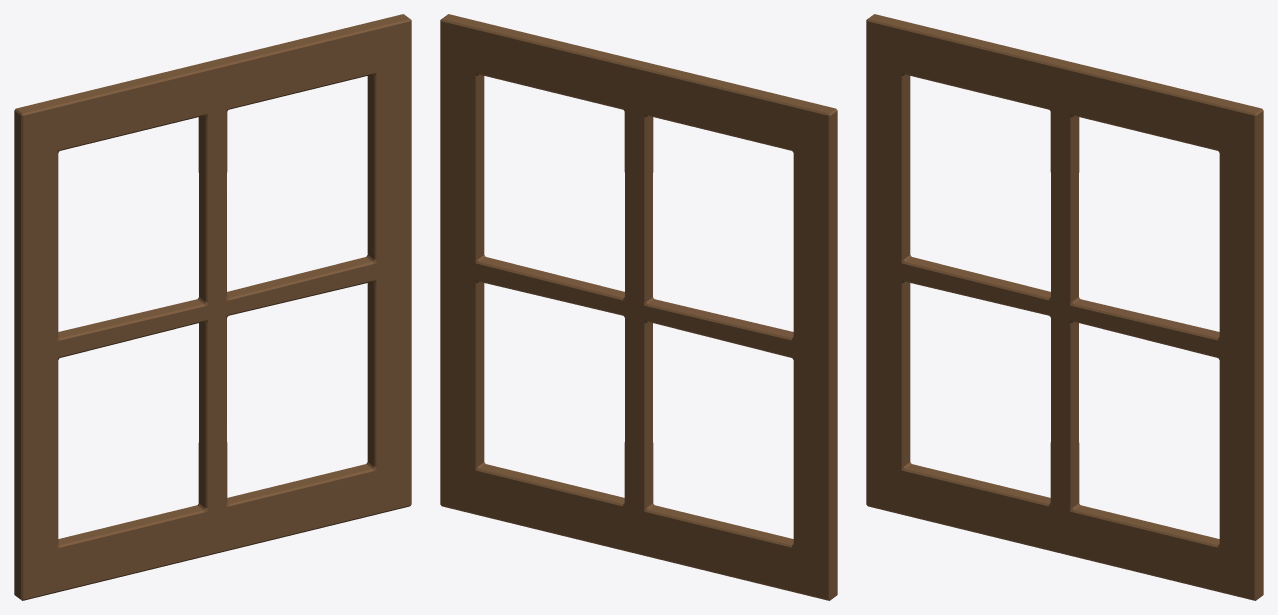
The model's file is FensterBad.fbx.
3 views of the same model, side by side, from view 1: azimuth 30°, elevation 25°; view 2: azimuth 150°, elevation 25°; view 3: azimuth 330°, elevation 25° (orthographic).
Visible parts, largest first — view 1: Fenster_Rahmen_Bad; view 2: Fenster_Rahmen_Bad; view 3: Fenster_Rahmen_Bad.
Boxes of the visible parts, x1,y1,x2,y2 form: Fenster_Rahmen_Bad: [14, 14, 411, 600]; Fenster_Rahmen_Bad: [440, 14, 837, 600]; Fenster_Rahmen_Bad: [866, 14, 1263, 600].
Size of the model in its own units: 101 by 121 by 3.68.
